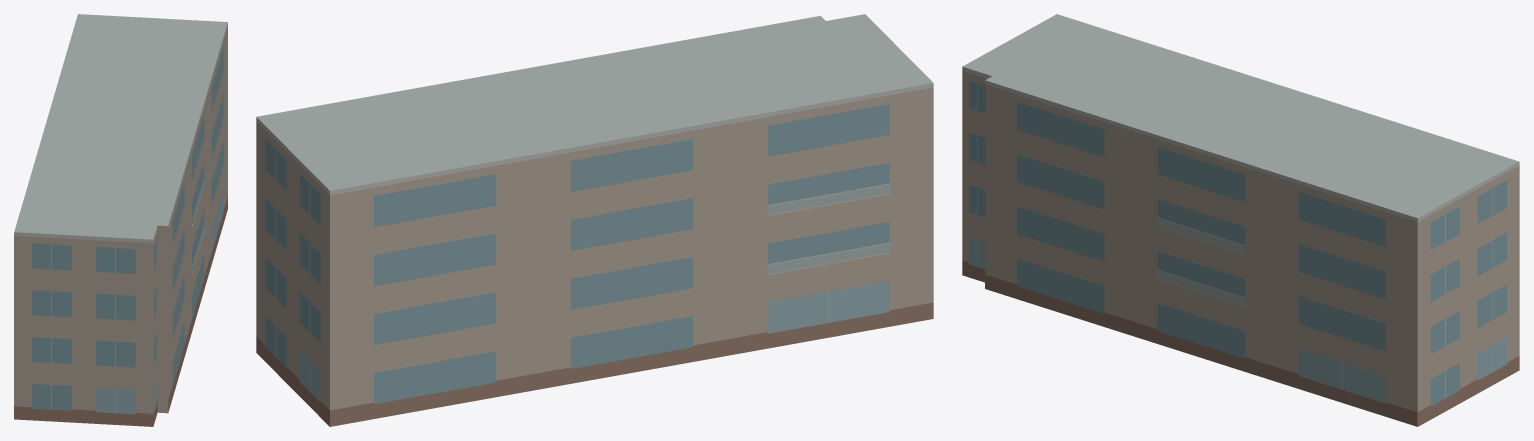
File: survey-upis-32806401.glb
3 renders of one model, left to right at view 1: azimuth 30°, elevation 25°; view 2: azimuth 150°, elevation 25°; view 3: azimuth 270°, elevation 25°, orthographic. The views are drawn at different scales.
Visible parts, largest first — view 1: survey-upis-32806401.tmp; view 2: survey-upis-32806401.tmp; view 3: survey-upis-32806401.tmp.
Part boxes in pixels (left/top/right/bottom): survey-upis-32806401.tmp: left=14, top=14, right=227, bottom=426; survey-upis-32806401.tmp: left=256, top=14, right=933, bottom=426; survey-upis-32806401.tmp: left=962, top=14, right=1519, bottom=426.
Bounding box in the file's own units: 26.67 × 12.7 × 30.76.
